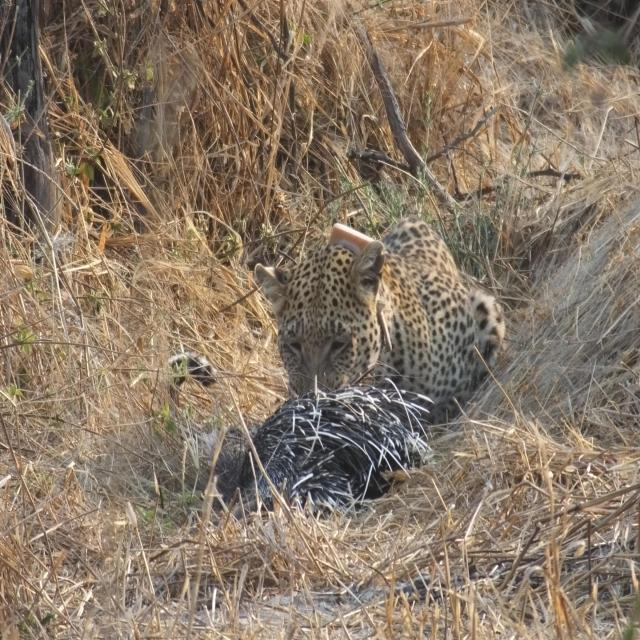Leopard: (150, 218, 512, 438)
